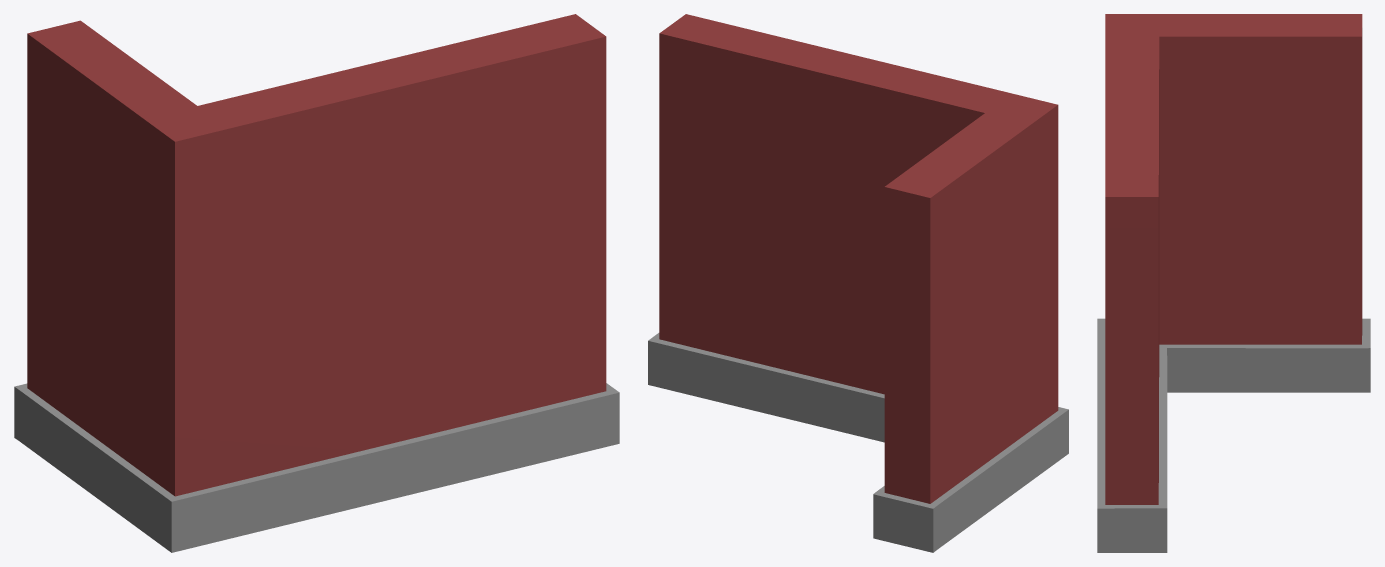
File: qiang06.FBX
3 views of the same model, side by side, from view 1: azimuth 30°, elevation 25°; view 2: azimuth 150°, elevation 25°; view 3: azimuth 270°, elevation 25° (orthographic). The views are drawn at different scales.
Visible parts, largest first — view 1: wall_17_0; view 2: wall_17_0; view 3: wall_17_0.
Boxes of the visible parts, x1,y1,x2,y2 form: wall_17_0: [14, 14, 619, 552]; wall_17_0: [648, 14, 1068, 552]; wall_17_0: [1097, 14, 1370, 552].
Bounding box in the file's own units: 374 × 324 × 228.
